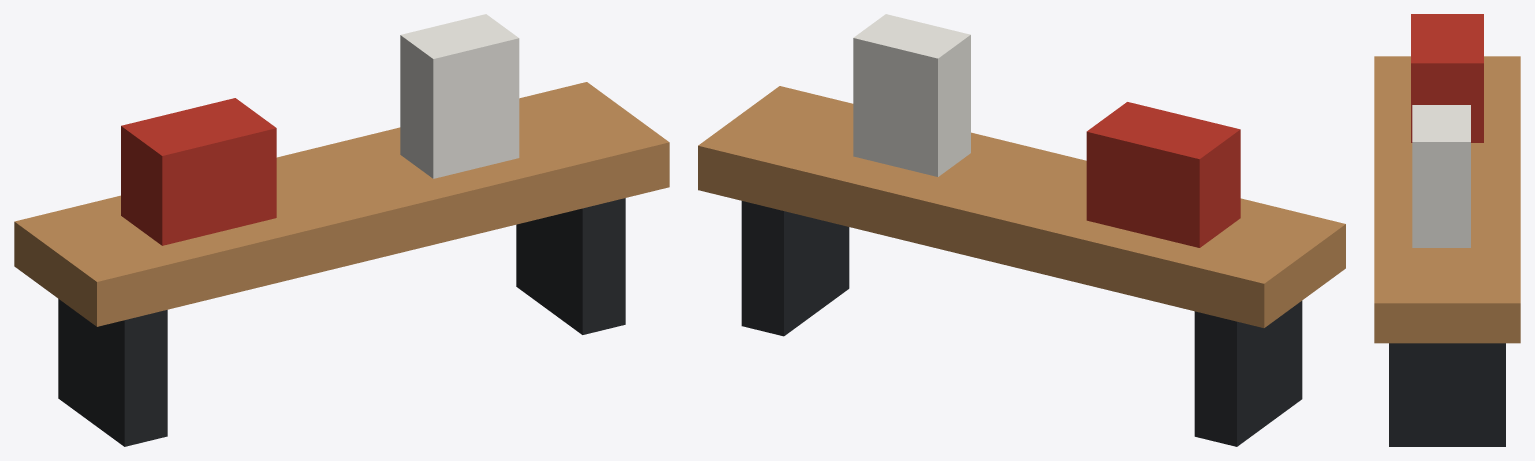
Rendered from Bench.fbx.
3 renders of one model, left to right at view 1: azimuth 30°, elevation 25°; view 2: azimuth 150°, elevation 25°; view 3: azimuth 270°, elevation 25°, orthographic. The views are drawn at different scales.
Visible parts, largest first — view 1: Bench_Mesh; view 2: Bench_Mesh; view 3: Bench_Mesh.
Boxes of the visible parts, x1,y1,x2,y2 form: Bench_Mesh: (14, 14, 669, 446); Bench_Mesh: (698, 14, 1345, 446); Bench_Mesh: (1374, 14, 1520, 446).
Size of the model in its own units: 2 by 1 by 0.5.
1 material, 1 textured.
